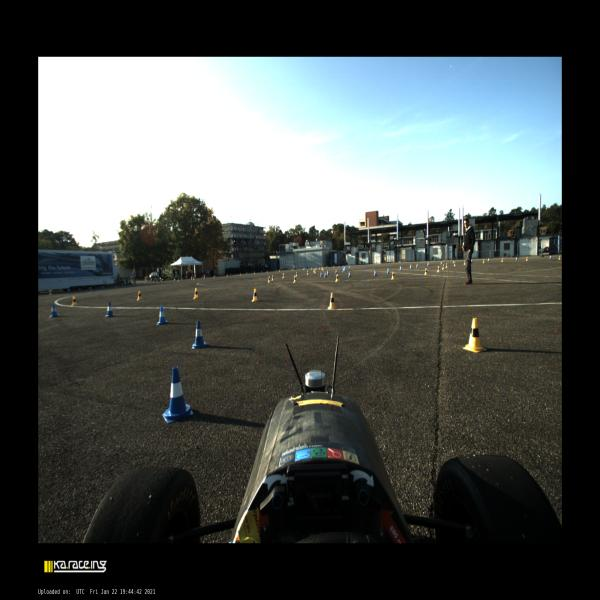blue_cone: (163, 367, 193, 424), (191, 320, 207, 349), (156, 306, 169, 325), (105, 302, 116, 318), (50, 304, 59, 317), (324, 271, 327, 278), (374, 269, 377, 276), (386, 268, 390, 273), (320, 271, 323, 277), (348, 271, 351, 277), (326, 270, 329, 275), (399, 266, 402, 271), (335, 269, 338, 274), (342, 267, 345, 272), (427, 262, 430, 266), (440, 260, 443, 264), (452, 260, 455, 264), (549, 255, 552, 259), (410, 264, 412, 269), (416, 263, 418, 268), (488, 257, 490, 262), (516, 257, 518, 260)
yellow_cone: (463, 317, 486, 353), (328, 292, 336, 308), (251, 288, 258, 302), (193, 288, 199, 299), (71, 296, 77, 306), (137, 291, 143, 300), (293, 275, 297, 283), (335, 274, 339, 282), (391, 272, 395, 280), (424, 268, 428, 275), (268, 276, 271, 283), (437, 265, 440, 272), (445, 263, 448, 268), (558, 255, 561, 260), (525, 256, 528, 261), (272, 274, 274, 281), (282, 273, 284, 279), (442, 264, 444, 270), (307, 270, 309, 275), (502, 257, 504, 262), (296, 272, 298, 276), (454, 262, 456, 266), (482, 260, 484, 264), (314, 269, 316, 273), (464, 260, 465, 265)
